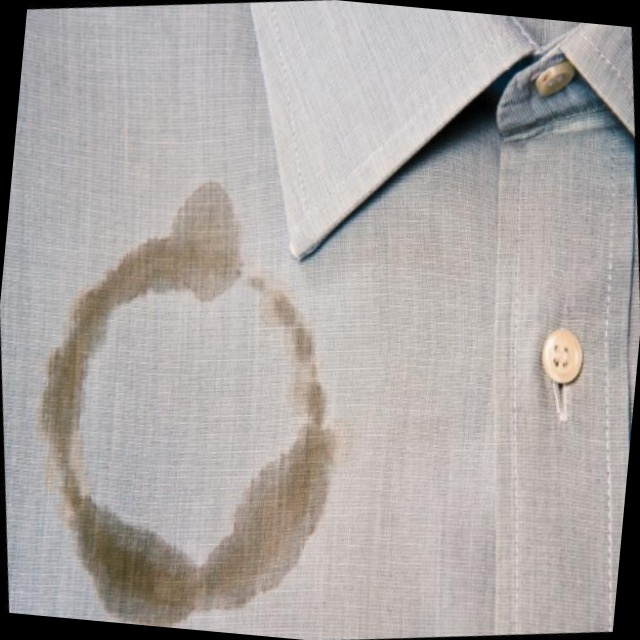coffee: (195, 424, 351, 629), (116, 189, 253, 312), (34, 277, 115, 453), (81, 516, 198, 628)
